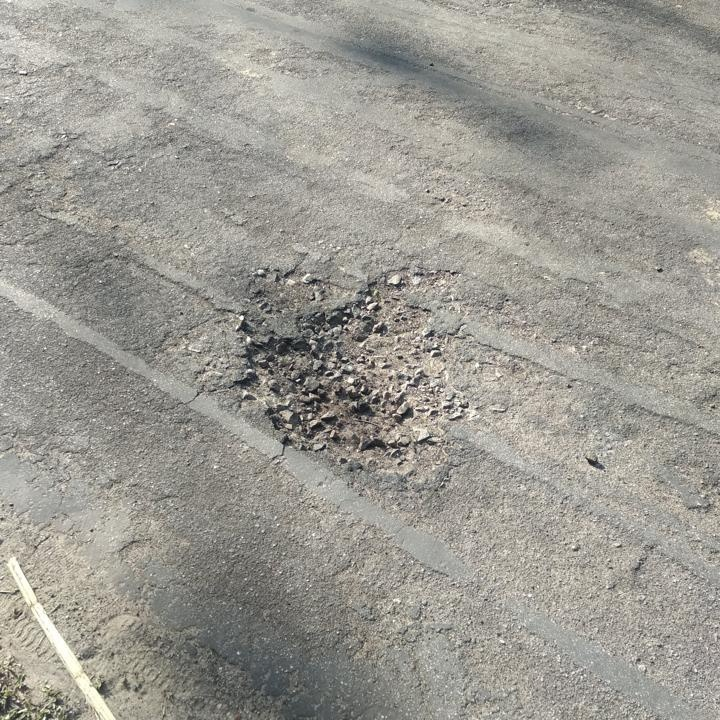pothole: (237, 267, 460, 474)
